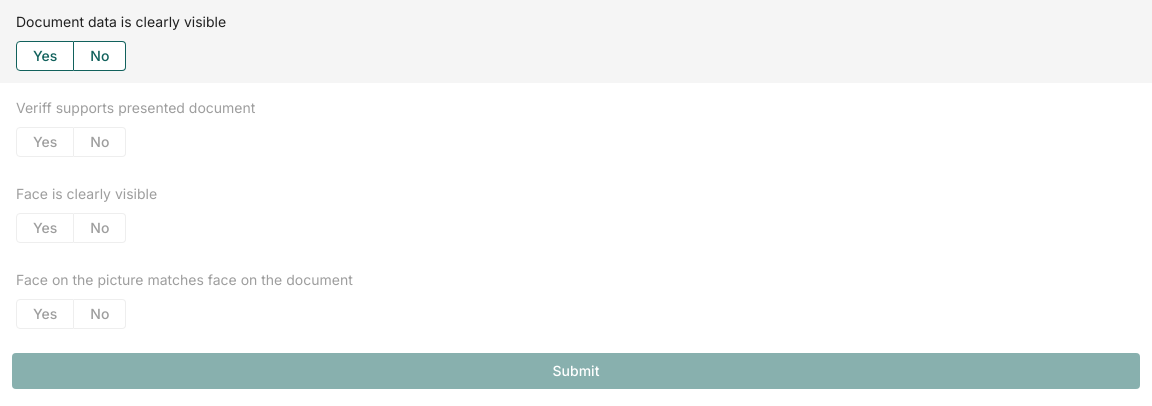
Scenario: Verification view › should have submit button enabled when all "yes" are selected
The image size is (1152, 406).
Step 1. Click the button "Yes" below "Document data is clearly visible" → (45, 56), box [16,41,74,71]
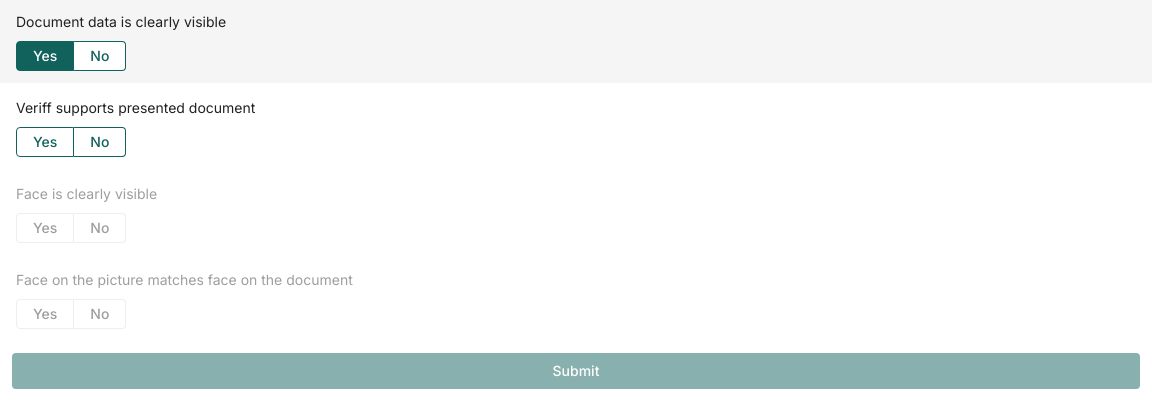
Step 2. Click the button "Yes" below "Veriff supports presented document" → (45, 142), box [16,127,74,157]
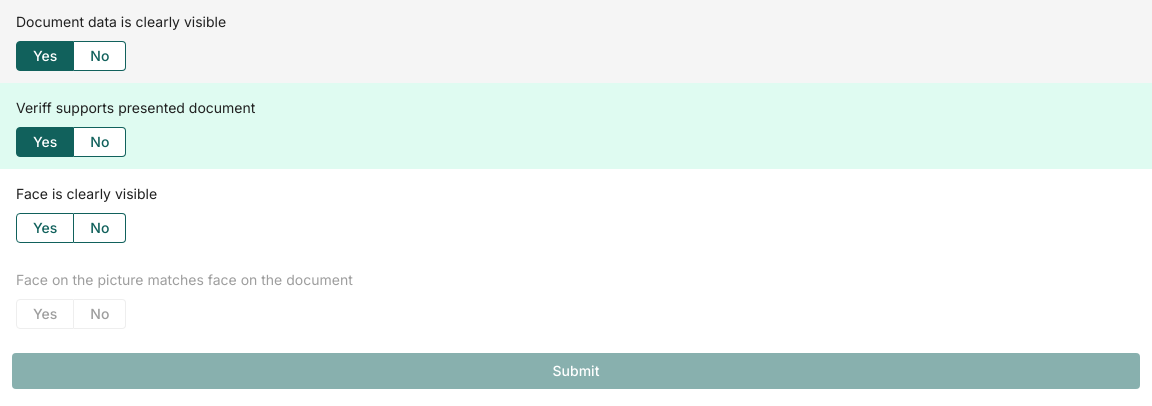
Step 3. Click the button "Yes" below "Face is clearly visible" → (45, 228), box [16,213,74,243]
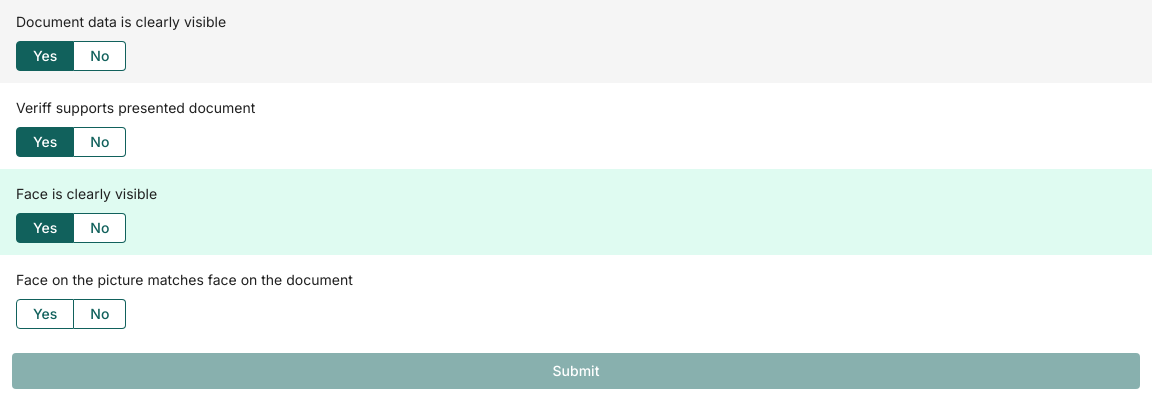
Step 4. Click the 4th button "Yes" → (45, 314), box [16,299,74,329]
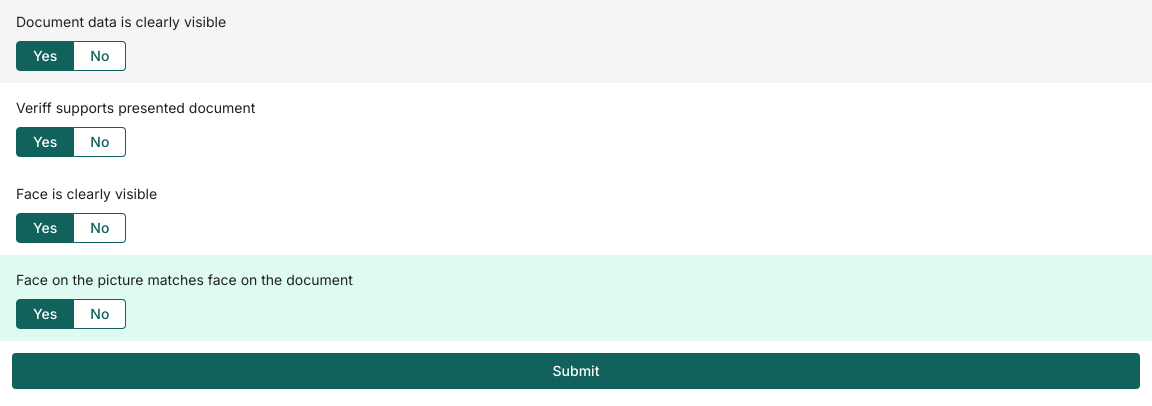
Expected: the button "Submit" is enabled, [12,353,1140,389]
